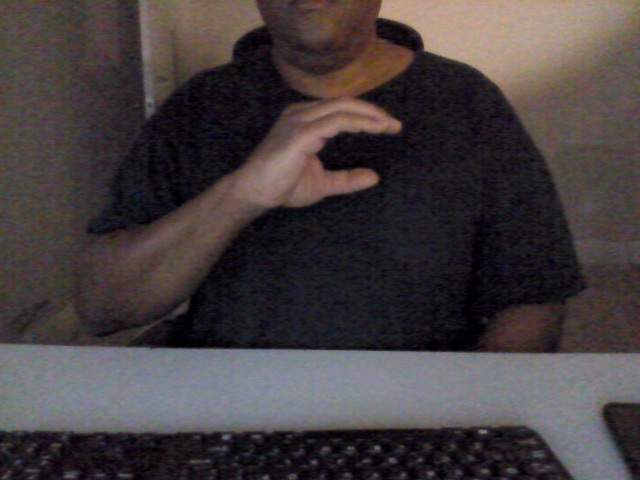police: (233, 92, 411, 217)
